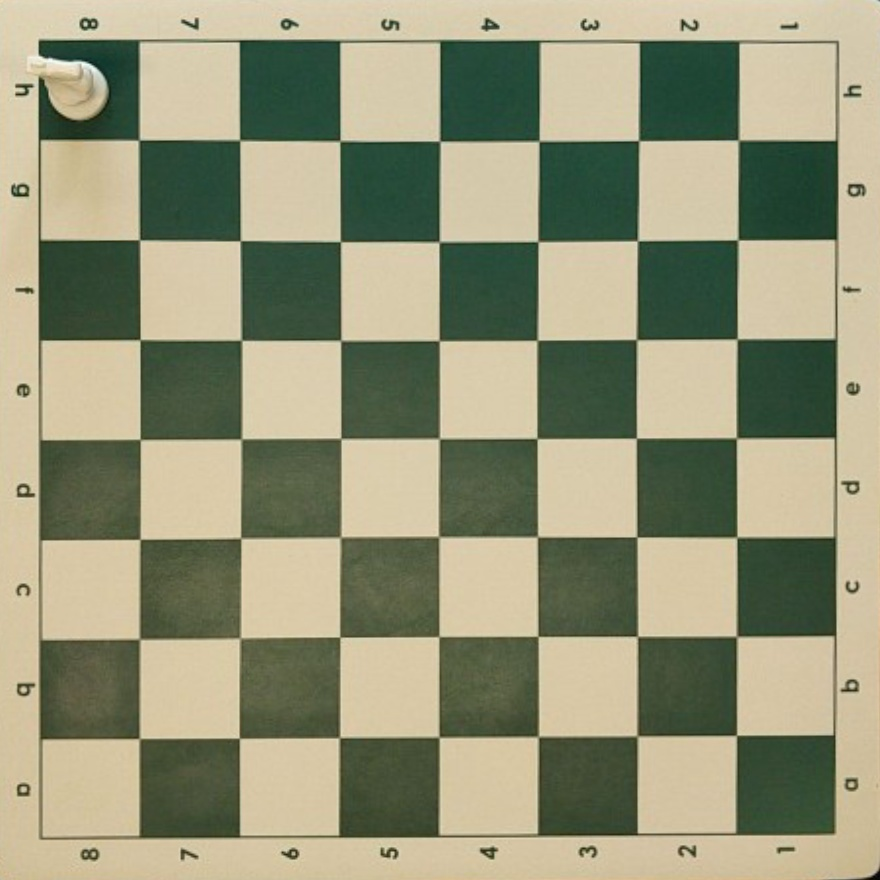white-knight: (22, 57, 108, 121)
